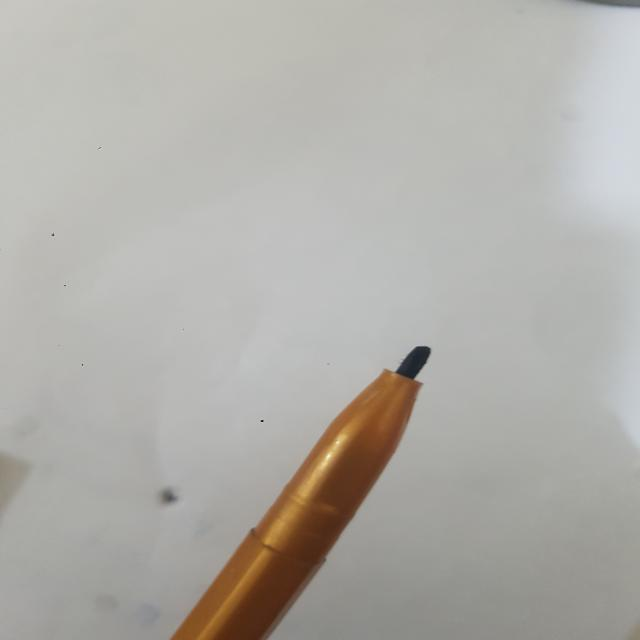general: (168, 344, 432, 639)
